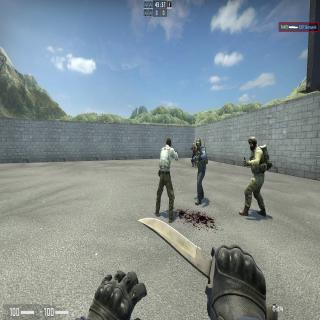CT-Body: (245, 137, 267, 216), (193, 138, 206, 204)
CT-Head: (248, 136, 257, 152), (196, 138, 201, 148)
T-Body: (157, 136, 175, 220), (192, 143, 196, 167)
T-Head: (166, 137, 171, 148), (192, 143, 195, 147)
